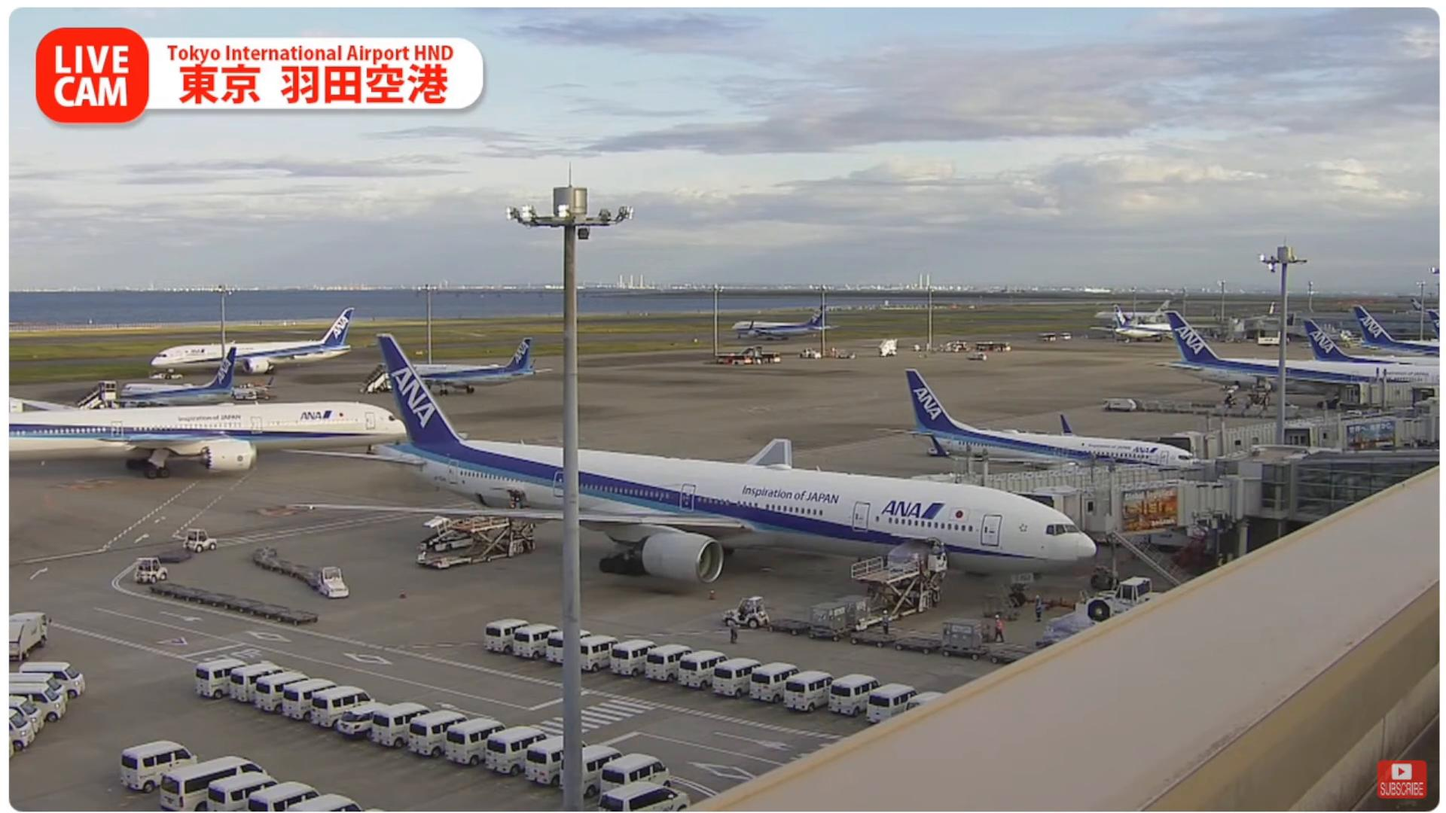APS: (1073, 579, 1171, 624)
Aerobridge: (937, 438, 1217, 490), (1025, 480, 1229, 535)
Airplane: (279, 328, 1098, 610)
Dolly: (765, 615, 1048, 658), (143, 583, 319, 630), (248, 550, 325, 588), (154, 543, 194, 562)
JCPL: (848, 550, 939, 632), (409, 511, 533, 568)
Skyloader: (417, 513, 486, 554)
Tractor: (722, 593, 770, 629), (316, 563, 351, 602), (186, 524, 216, 552), (136, 558, 166, 581)
Window: (1286, 455, 1435, 523)
